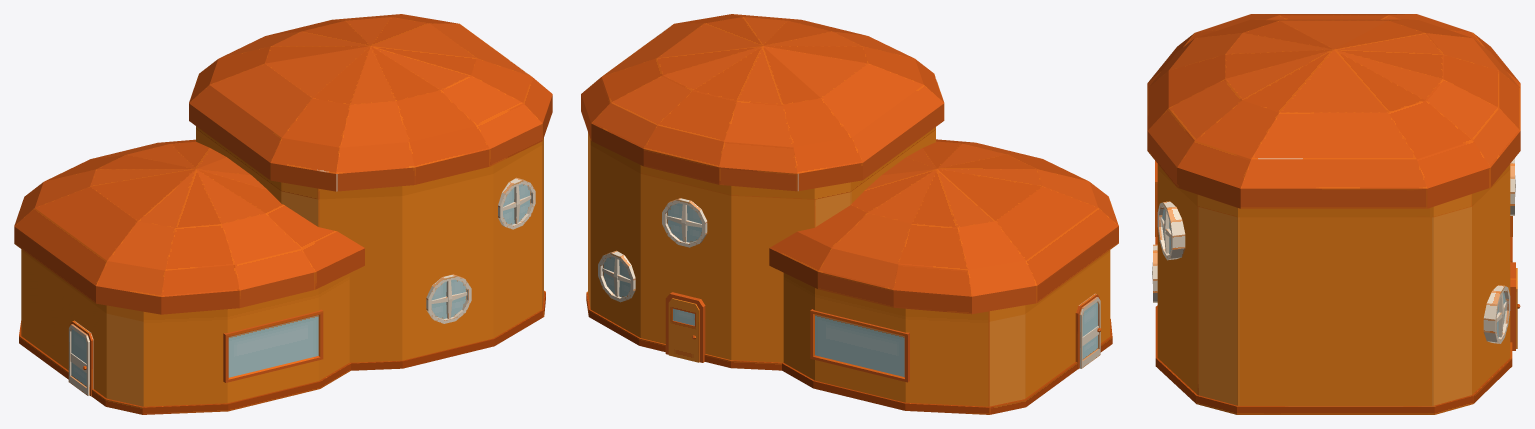
File: W.H_orange.fix.gltf
3 views of the same model, side by side, from view 1: azimuth 30°, elevation 25°; view 2: azimuth 150°, elevation 25°; view 3: azimuth 270°, elevation 25° (orthographic). The views are drawn at different scales.
Parts seen in each view (by area): view 1: mesh; view 2: mesh; view 3: mesh.
Part boxes in pixels (<box>): mesh: <box>14,14,552,414</box>; mesh: <box>581,14,1118,414</box>; mesh: <box>1147,14,1520,414</box>.
Bounding box in the file's own units: 28.61 × 15.23 × 17.68.
1 material, 1 textured.
